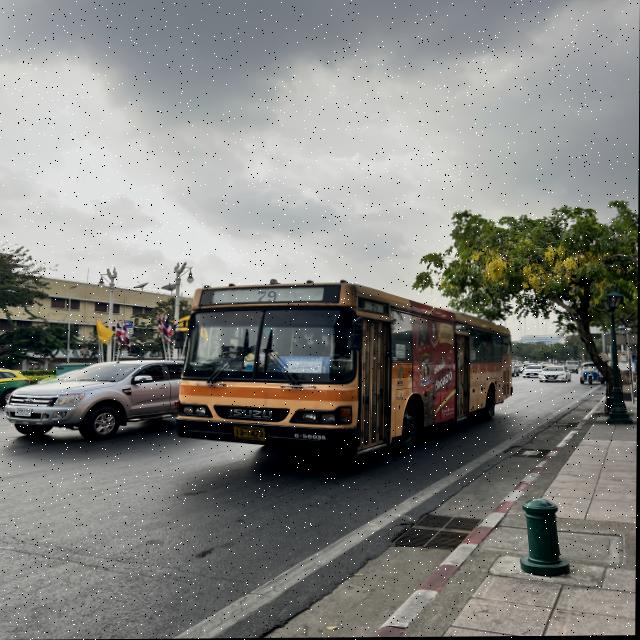BMTA-bus: (177, 283, 514, 462)
Bus Line Number: (252, 289, 289, 305), (368, 302, 384, 314)
Bus Side Number: (292, 431, 329, 444)
Destination Sign: (280, 354, 330, 376)
